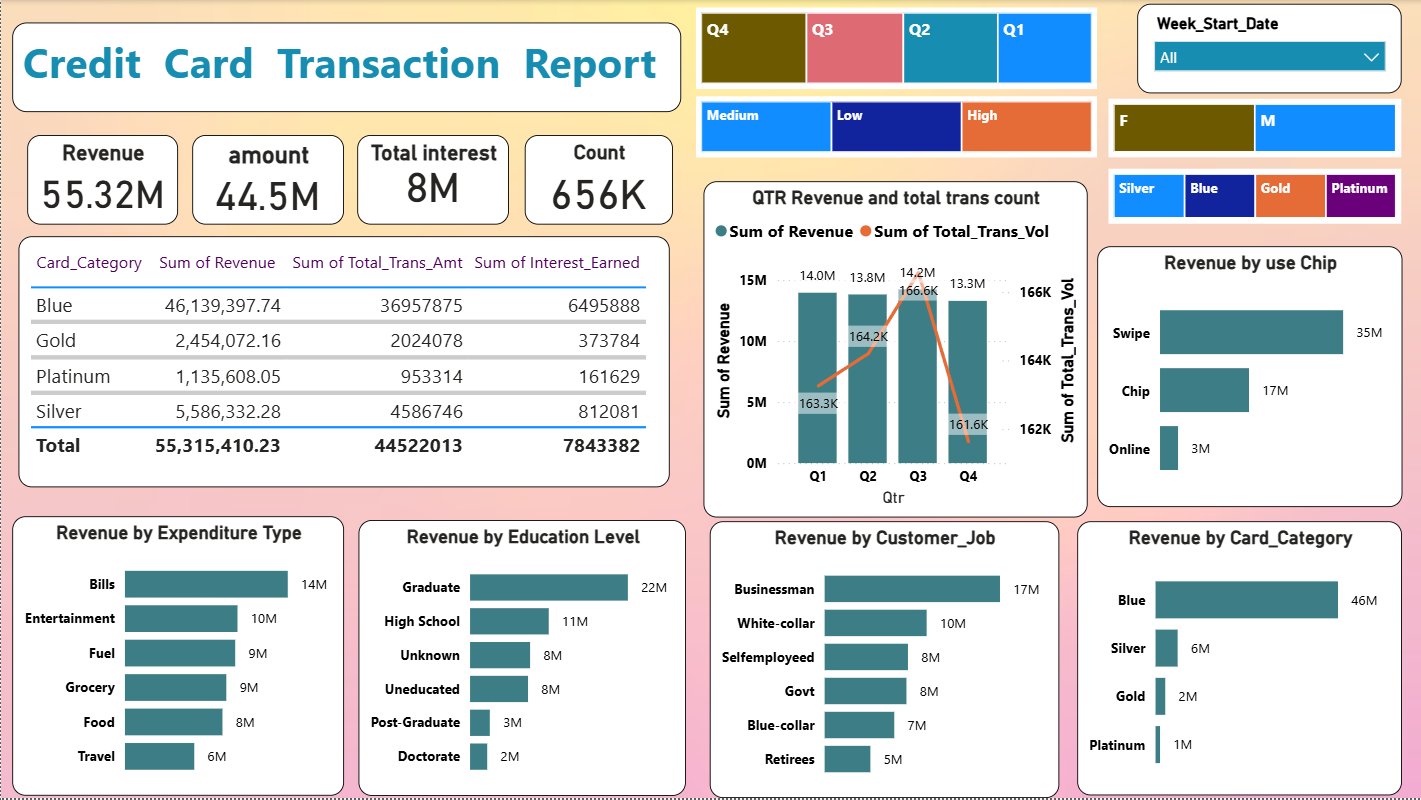

The dashboard page shown, as its layout file describes it:
{"tool":"powerbi","page":{"name":"Credit Card Transaction","canvas":[1280,720],"ordinal":0},"visuals":[{"type":"textbox","box":[9.8,20.8,602.9,80.7],"z":0},{"type":"lineStackedColumnComboChart","title":"QTR Revenue and total trans count","fields":{"Category":["Public_cc_detail.Qtr"],"Y":["Sum(Public_cc_detail.Revenue)"],"Y2":["Sum(Public_cc_detail.Total_Trans_Vol)"]},"box":[625.6,154.7,345.3,302.3],"z":1000},{"type":"barChart","title":"Revenue by Expenditure Type","fields":{"Y":["Sum(Public_cc_detail.Revenue)"],"Category":["Public_cc_detail.Exp Type"]},"box":[9.7,465.7,299.2,252.1],"z":2000},{"type":"barChart","title":"Revenue by Education Level ","fields":{"Y":["Sum(Public_cc_detail.Revenue)"],"Category":["Public_cust_detail.Education_Level"]},"box":[322.1,469.3,295.6,248.5],"z":3000},{"type":"barChart","title":"Revenue by Customer_Job","fields":{"Y":["Sum(Public_cc_detail.Revenue)"],"Category":["Public_cust_detail.Customer_Job"]},"box":[639.4,470.5,314.9,249.7],"z":4000},{"type":"barChart","title":"Revenue by Card_Category","fields":{"Y":["Sum(Public_cc_detail.Revenue)"],"Category":["Public_cc_detail.Card_Category"]},"box":[970,470.5,293.2,247.3],"z":5000},{"type":"barChart","title":"Revenue by use Chip","fields":{"Y":["Sum(Public_cc_detail.Revenue)"],"Category":["Public_cc_detail.Use Chip"]},"box":[988.1,222,275.1,235.3],"z":6000},{"type":"tableEx","fields":{"Values":["Public_cc_detail.Card_Category","Sum(Public_cc_detail.Revenue)","Sum(Public_cc_detail.Total_Trans_Amt)","Sum(Public_cc_detail.Interest_Earned)"]},"box":[15.9,212.8,587,226.2],"z":7000},{"type":"card","title":"Revenue","fields":{"Values":["Sum(Public_cc_detail.Revenue)"]},"box":[23.2,122.3,135.7,80.7],"z":8000},{"type":"card","title":"amount","fields":{"Values":["Sum(Public_cc_detail.Total_Trans_Amt)"]},"box":[172.4,122.3,137,80.7],"z":9000},{"type":"card","title":"Total interest","fields":{"Values":["Sum(Public_cc_detail.Interest_Earned)"]},"box":[321.6,122.3,137,80.7],"z":10000},{"type":"card","title":"Count","fields":{"Values":["Sum(Public_cc_detail.Total_Trans_Vol)"]},"box":[472,122.3,133.3,80.7],"z":11000},{"type":"slicer","fields":{"Values":["Public_cc_detail.Week_Start_Date"]},"box":[1024.7,3.7,238.5,80.7],"z":12000},{"type":"treemap","title":"Count of Client Num by Qtr","fields":{"Group":["Public_cc_detail.Qtr"],"Values":["Avg(Public_cc_detail.ï»¿Client_Num)"]},"box":[626.1,7.2,361.9,73.6],"z":13000},{"type":"treemap","title":"Count of Client Num by Qtr","fields":{"Values":["Avg(Public_cc_detail.ï»¿Client_Num)"],"Group":["Public_cust_detail.Gender"]},"box":[998.9,89.3,264.2,53.1],"z":14000},{"type":"treemap","title":"Count of Client Num by Qtr","fields":{"Values":["Avg(Public_cc_detail.ï»¿Client_Num)"],"Group":["Public_cc_detail.Card_Category"]},"box":[998.9,152,264.2,49.5],"z":15000},{"type":"treemap","title":"Count of Client Num by Qtr","fields":{"Values":["Avg(Public_cc_detail.ï»¿Client_Num)"],"Group":["Public_cust_detail.IncomeGroup"]},"box":[626.1,86.9,361.9,55.5],"z":16000}]}

Visuals, with their boxes in screenshot pixels (x1, y1, x2, y2), scaled from the page's 1280x720 canvas onto the 1421x800 screenshot:
textbox: x1=11, y1=23, x2=680, y2=113
"QTR Revenue and total trans count" lineStackedColumnComboChart: x1=695, y1=172, x2=1078, y2=508
"Revenue by Expenditure Type" barChart: x1=11, y1=517, x2=343, y2=798
"Revenue by Education Level " barChart: x1=358, y1=521, x2=686, y2=798
"Revenue by Customer_Job" barChart: x1=710, y1=523, x2=1059, y2=799
"Revenue by Card_Category" barChart: x1=1077, y1=523, x2=1402, y2=798
"Revenue by use Chip" barChart: x1=1097, y1=247, x2=1402, y2=508
tableEx - Public_cc_detail.Card_Category x Sum(Public_cc_detail.Revenue): x1=18, y1=236, x2=669, y2=488
"Revenue" card: x1=26, y1=136, x2=176, y2=226
"amount" card: x1=191, y1=136, x2=343, y2=226
"Total interest" card: x1=357, y1=136, x2=509, y2=226
"Count" card: x1=524, y1=136, x2=672, y2=226
slicer - Public_cc_detail.Week_Start_Date: x1=1138, y1=4, x2=1402, y2=94
"Count of Client Num by Qtr" treemap: x1=695, y1=8, x2=1097, y2=90
"Count of Client Num by Qtr" treemap: x1=1109, y1=99, x2=1402, y2=158
"Count of Client Num by Qtr" treemap: x1=1109, y1=169, x2=1402, y2=224
"Count of Client Num by Qtr" treemap: x1=695, y1=97, x2=1097, y2=158
